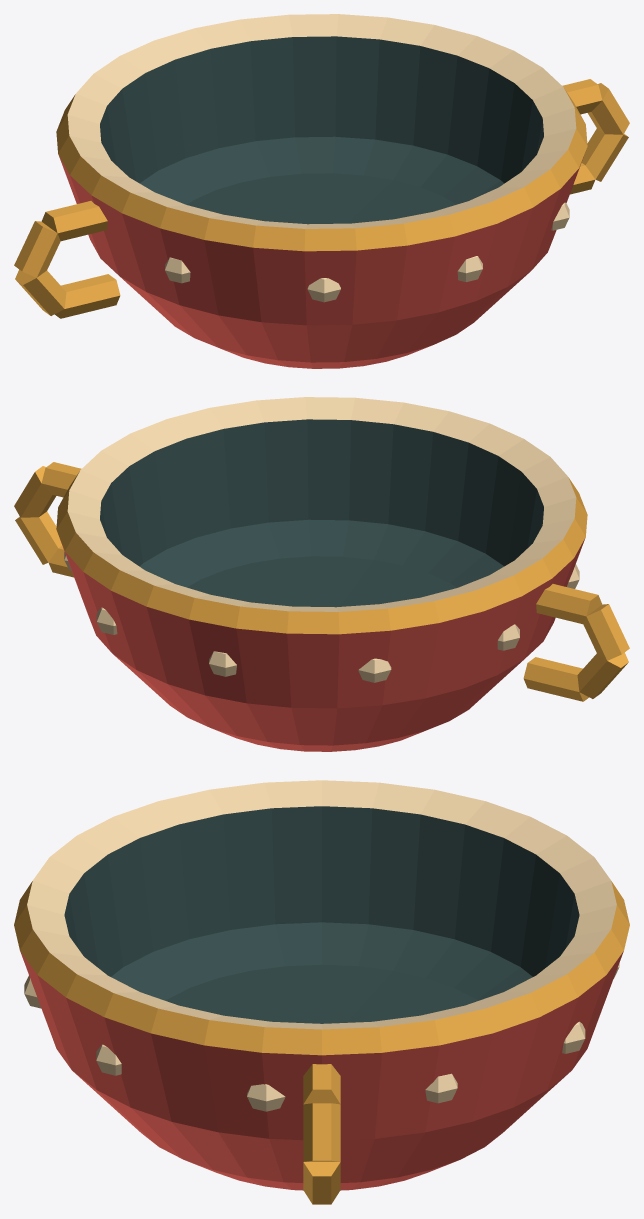
Rendered from ParkParkTeacup.obj.
The picture shows the model from 3 angles, top to bottom: view 1: azimuth 30°, elevation 25°; view 2: azimuth 150°, elevation 25°; view 3: azimuth 270°, elevation 25°; orthographic projection. The views are drawn at different scales.
Visible parts, largest first — view 1: ParkParkTeacup; view 2: ParkParkTeacup; view 3: ParkParkTeacup.
Part boxes in pixels (x1,y1,x2,y2): ParkParkTeacup: (14, 14, 629, 368); ParkParkTeacup: (14, 397, 629, 751); ParkParkTeacup: (14, 780, 629, 1204).
Bounding box in the file's own units: 4.35 × 1.32 × 3.3.
